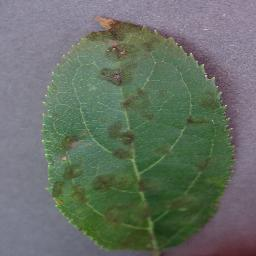apple healthy: (39, 14, 237, 255)
